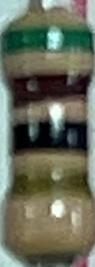Black: (12, 122, 86, 156)
Brown: (8, 72, 91, 107)
Green: (4, 30, 93, 58)
Side-Gold: (6, 172, 91, 197)
